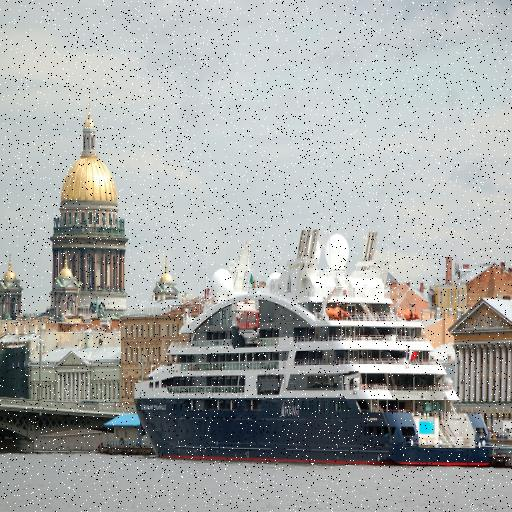cruises: (133, 226, 498, 479)
